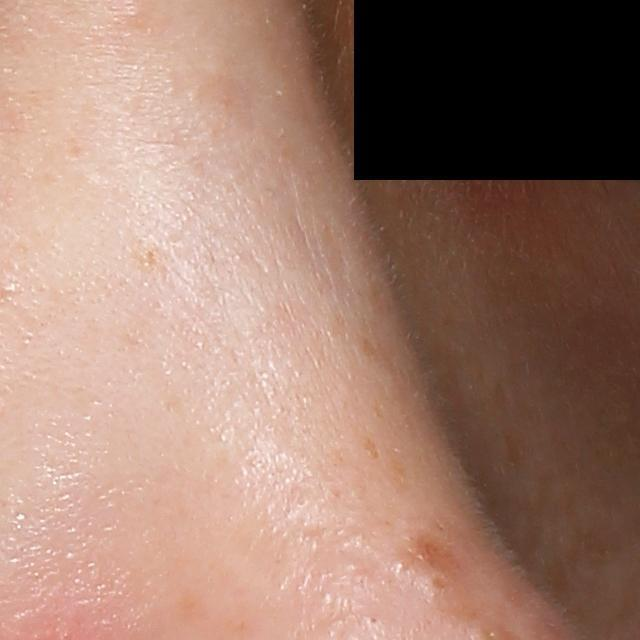comedo: (365, 612, 382, 626)
